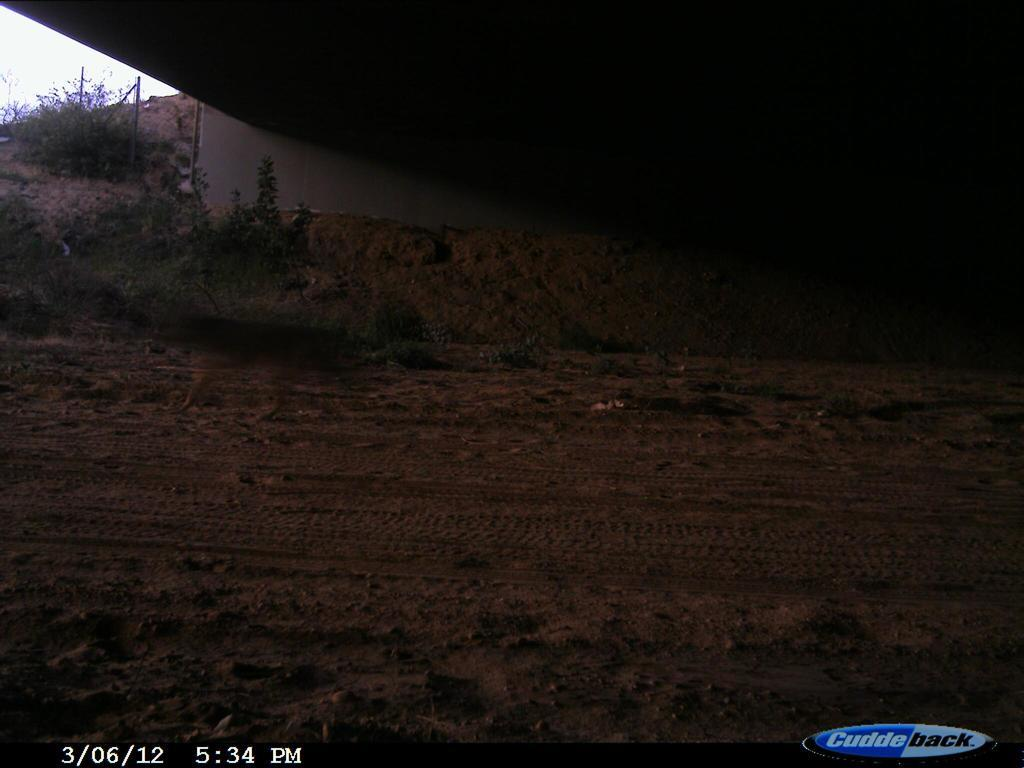coyote: (145, 289, 374, 427)
